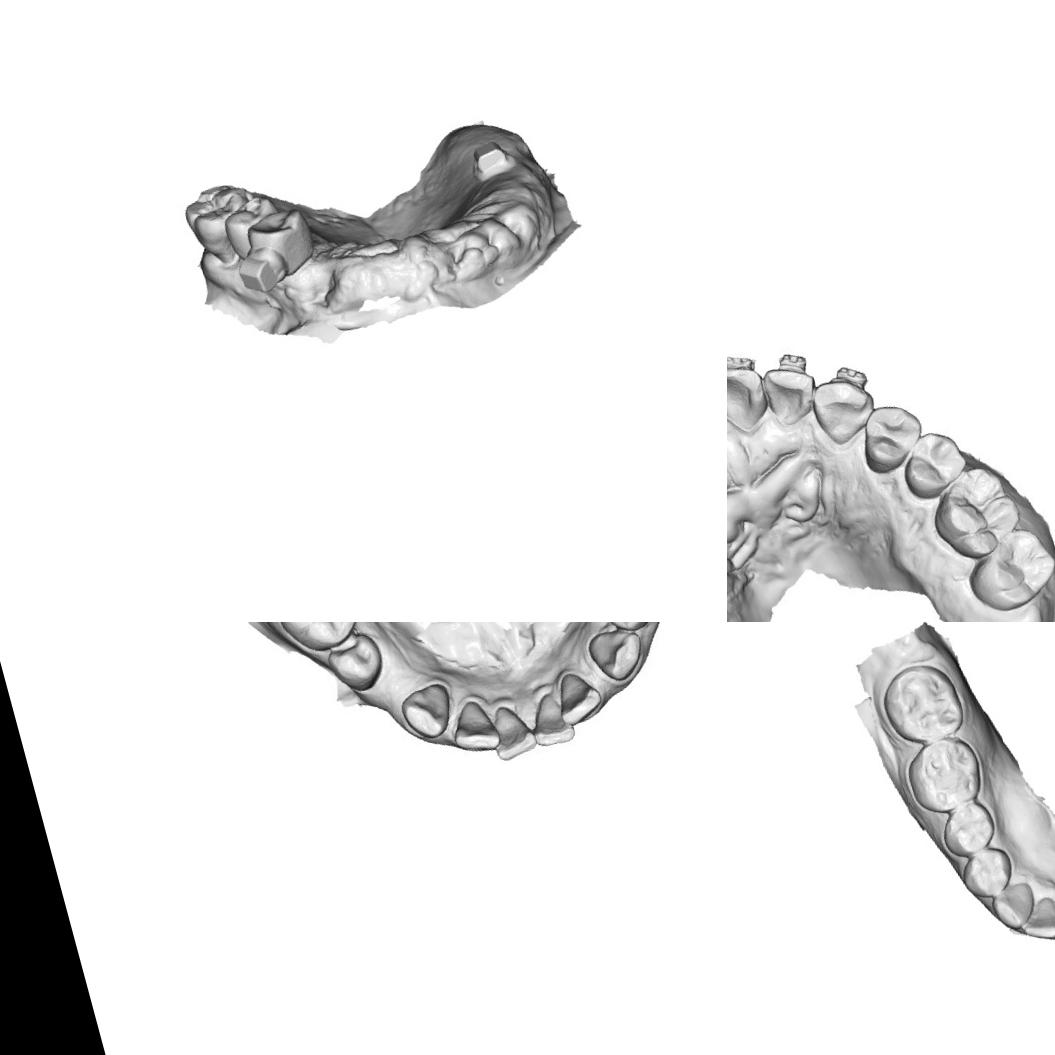canine: (805, 368, 877, 446), (395, 676, 460, 746), (582, 622, 649, 689), (985, 878, 1042, 936)
incisor: (756, 358, 820, 426), (727, 354, 776, 439), (522, 685, 584, 751), (545, 664, 607, 729), (444, 694, 504, 758), (482, 697, 537, 766), (1011, 893, 1055, 949)
molar: (920, 454, 1032, 566), (957, 519, 1055, 619), (872, 654, 970, 750), (176, 176, 266, 273), (897, 726, 990, 818), (267, 622, 368, 659)
premolar: (891, 422, 976, 504), (234, 201, 323, 277), (850, 396, 930, 476), (216, 190, 286, 266), (932, 792, 1000, 861), (322, 628, 390, 696), (954, 840, 1020, 904), (593, 622, 662, 638)
